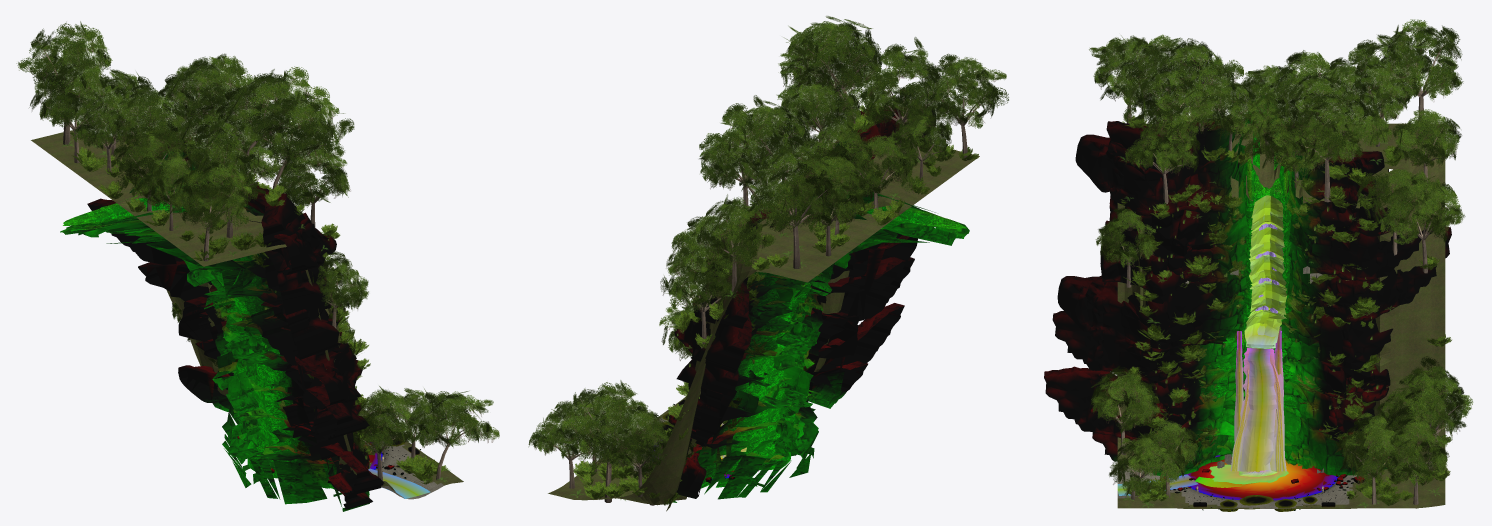
The model's file is waterfall.glb.
The picture shows the model from 3 angles, left to right: view 1: azimuth 30°, elevation 25°; view 2: azimuth 150°, elevation 25°; view 3: azimuth 270°, elevation 25°; orthographic projection. The views are drawn at different scales.
Parts seen in each view (by area): view 1: falls_rock_lod0, falls_trees_hi, falls_trees, falls_ground, veg__falls_plants_hi, veg__falls_plants; view 2: falls_trees_hi, falls_rock_lod0, falls_trees, falls_ground, veg__falls_plants_hi; view 3: falls_rock_lod0, falls_trees_hi, falls_trees, falls_ground, veg__falls_plants_hi, veg__falls_plants, W_falls_cascade_low, W_falls_cascade, W_falls_plunge_0, falls_flank_lod0, W_falls_pool, W_falls_plunge_2 (+7 smaller).
Boxes of the visible parts, left/top/right/bottom form: falls_rock_lod0: left=60, top=135, right=384, bottom=511; falls_trees_hi: left=16, top=21, right=499, bottom=486; falls_trees: left=113, top=53, right=354, bottom=366; falls_ground: left=31, top=130, right=463, bottom=499; veg__falls_plants_hi: left=62, top=121, right=449, bottom=481; veg__falls_plants: left=225, top=212, right=447, bottom=484; falls_trees_hi: left=528, top=22, right=1008, bottom=502; falls_rock_lod0: left=668, top=107, right=969, bottom=502; falls_trees: left=561, top=16, right=915, bottom=505; falls_ground: left=548, top=144, right=979, bottom=505; veg__falls_plants_hi: left=569, top=101, right=978, bottom=505; falls_rock_lod0: left=1044, top=101, right=1451, bottom=477; falls_trees_hi: left=1089, top=19, right=1473, bottom=508; falls_trees: left=1125, top=37, right=1435, bottom=504; falls_ground: left=1117, top=123, right=1445, bottom=508; veg__falls_plants_hi: left=1120, top=114, right=1451, bottom=507; veg__falls_plants: left=1118, top=171, right=1404, bottom=504; W_falls_cascade_low: left=1246, top=195, right=1286, bottom=348; W_falls_cascade: left=1244, top=195, right=1286, bottom=348; W_falls_plunge_0: left=1245, top=348, right=1276, bottom=471; falls_flank_lod0: left=1140, top=164, right=1402, bottom=447; W_falls_pool: left=1186, top=455, right=1338, bottom=500; W_falls_plunge_2: left=1230, top=331, right=1286, bottom=471.
Size of what is drawn, in the model's own units: 56.68 by 65.32 by 60.86.
Materials: 18 (13 with a texture image).
